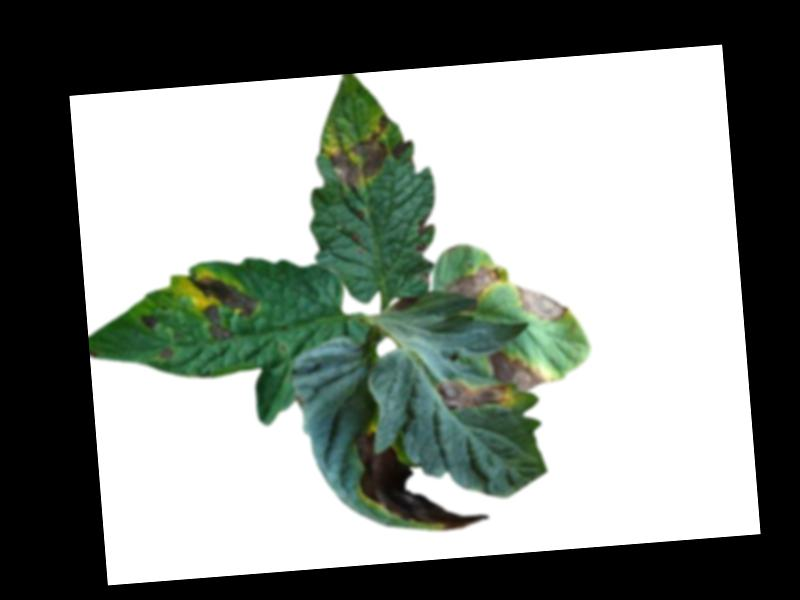Early_blight: (353, 423, 493, 537), (187, 272, 263, 343), (328, 114, 394, 192), (487, 347, 549, 396), (434, 376, 511, 413), (444, 264, 501, 304), (517, 282, 569, 324), (414, 215, 433, 254), (391, 295, 421, 315), (391, 136, 412, 161), (138, 313, 159, 332), (159, 347, 175, 360)
